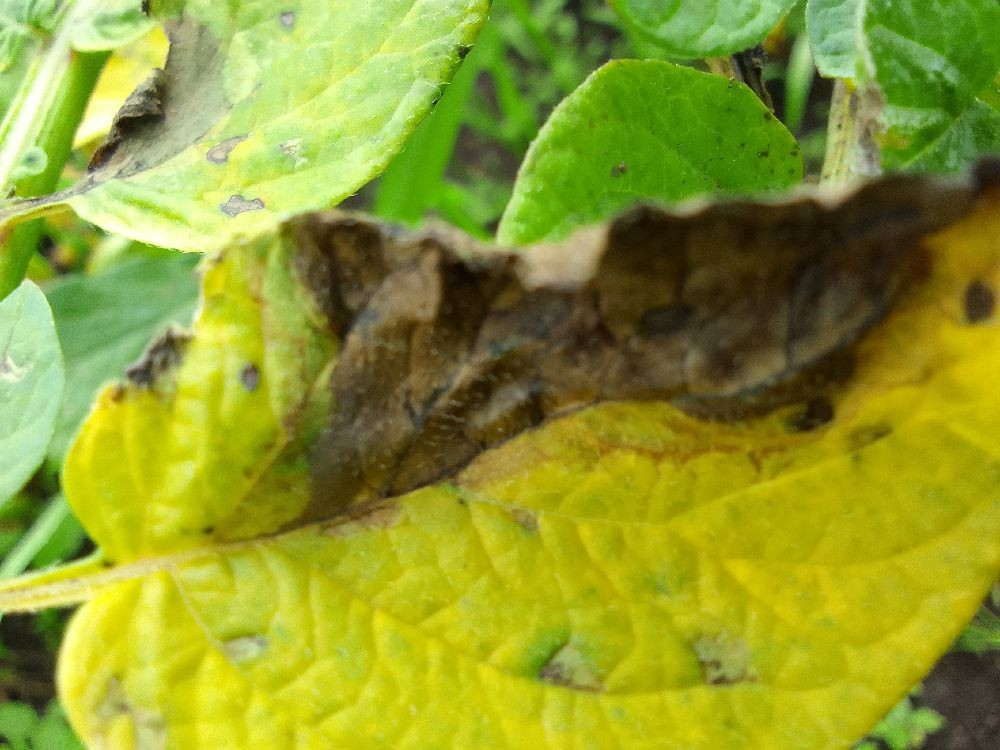late_blight: (77, 314, 209, 468), (892, 616, 1000, 750), (0, 595, 72, 730), (435, 116, 531, 198)
